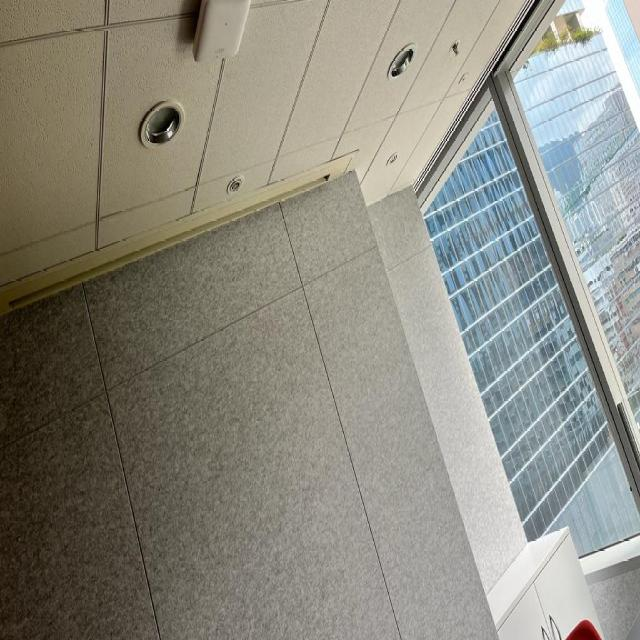Light-Closed: (137, 94, 185, 150), (384, 39, 418, 84), (384, 148, 400, 170)
